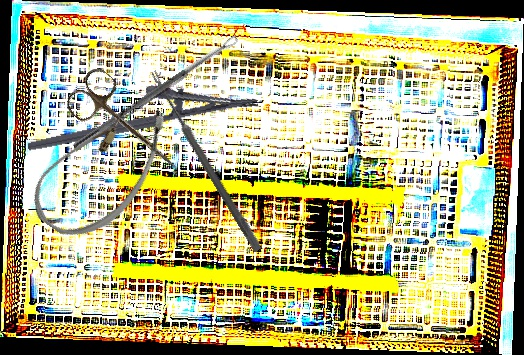Cannula: (20, 76, 183, 257)
Iris Scissors: (61, 63, 195, 187)
Needle Holder: (20, 65, 260, 153)
Surgical Spoon: (147, 69, 264, 253), (72, 34, 240, 153)
